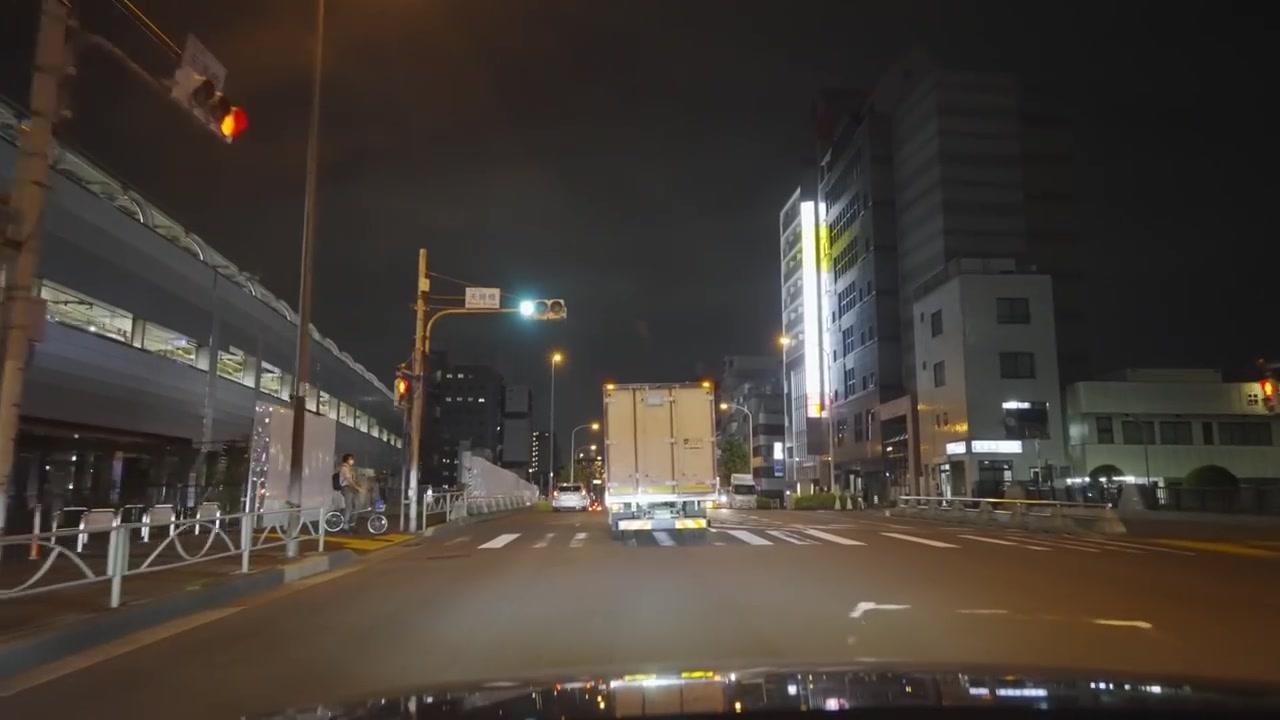bicycle: (324, 488, 388, 535)
bus: (1064, 378, 1280, 512)
car: (551, 483, 590, 512)
person: (326, 479, 384, 534), (335, 452, 364, 519)
traffic light: (186, 76, 249, 144), (1259, 372, 1280, 413), (394, 369, 413, 407)
truck: (603, 381, 717, 544)
